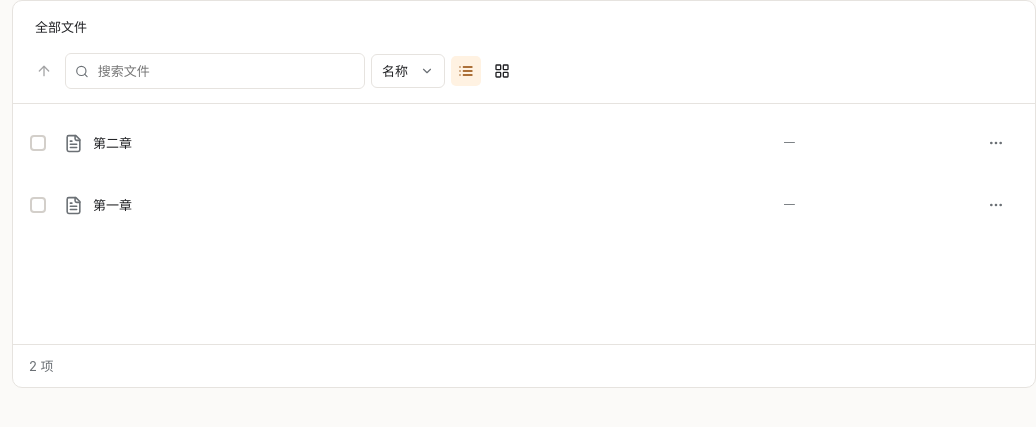
restricts a resource selection rectangle to intersecting visible rows
Press the mouse on the element with class "fp-explorer-content" at (789, 142), box [30,121,1018,227]
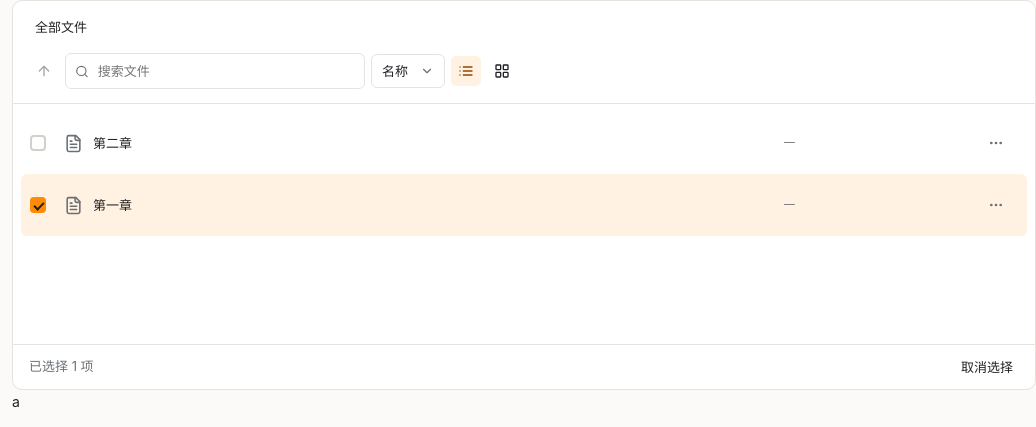
Now the text "a" is shown, box [12,393,20,410]
